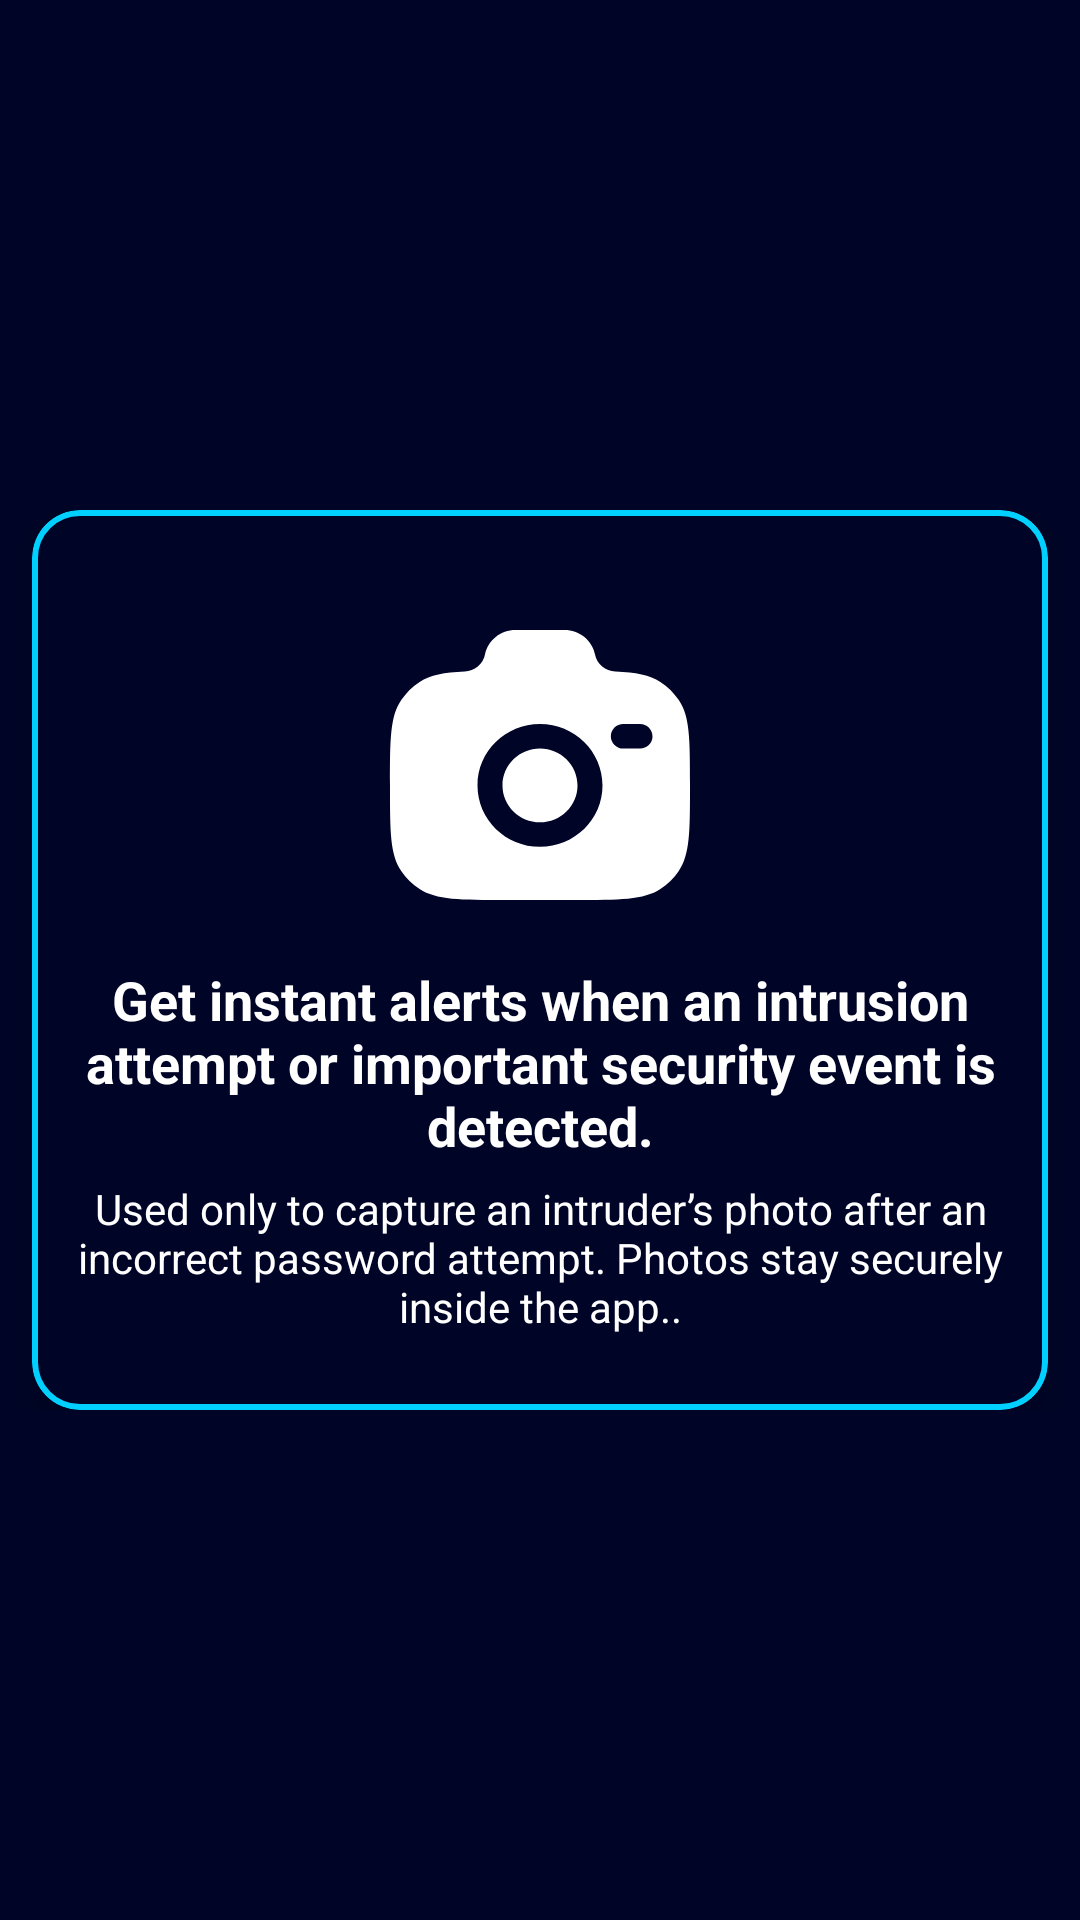

Where icons sit on this 1080px x 1920px app screen, as BBox(x1, y1, x2, y2):
solar camera: BBox(389, 630, 690, 900)
